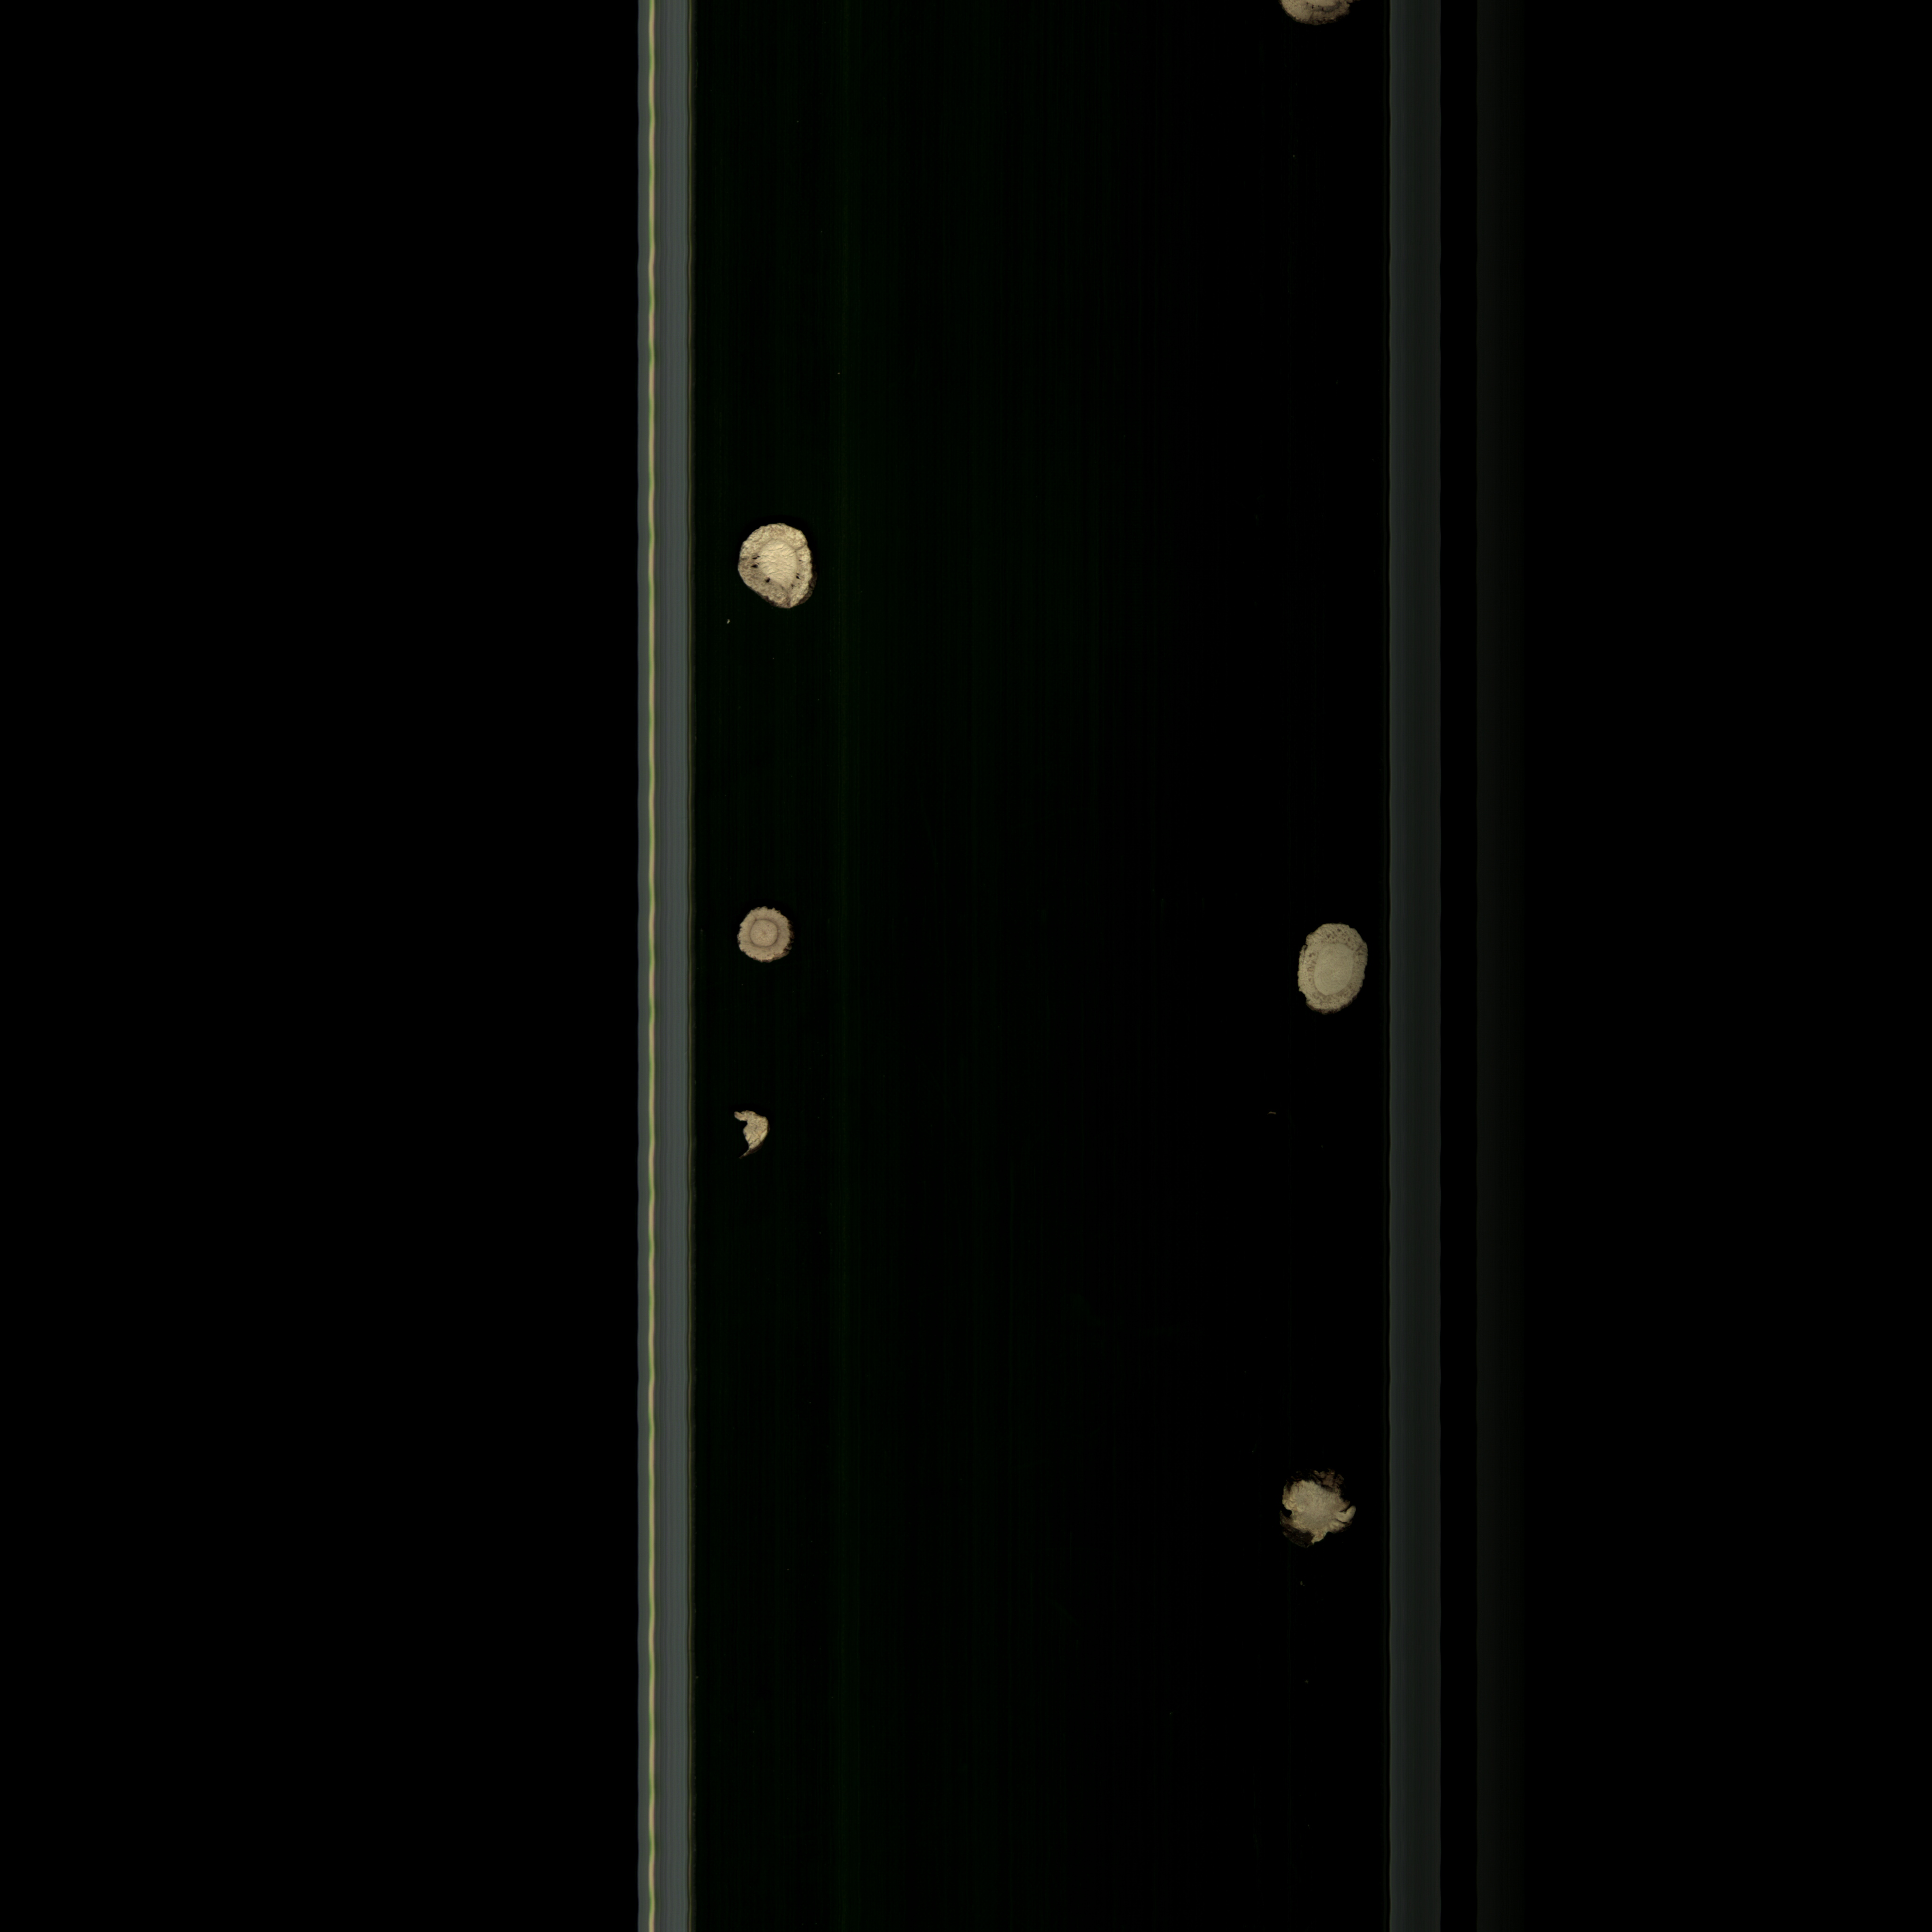debris: (718, 1102, 784, 1166)
hole: (732, 518, 817, 614)
moldy: (1270, 1472, 1355, 1550), (734, 901, 794, 971)
